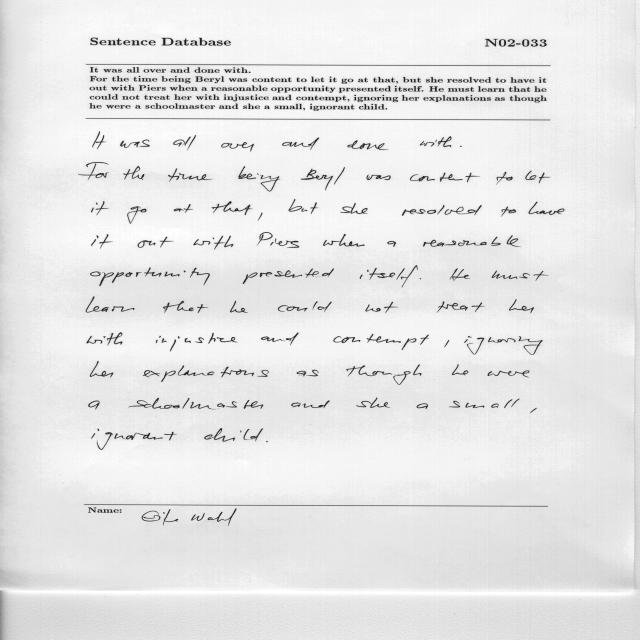word: (91, 268, 210, 287), (143, 366, 269, 382), (92, 429, 177, 450), (346, 364, 422, 385), (156, 333, 238, 352), (333, 334, 429, 350), (464, 336, 543, 355), (129, 398, 264, 409), (243, 268, 334, 284), (360, 266, 418, 288), (423, 235, 520, 247), (239, 166, 281, 192), (301, 167, 345, 191), (402, 205, 482, 216), (86, 297, 134, 313), (204, 429, 263, 442), (410, 173, 480, 183), (257, 232, 299, 248), (168, 168, 213, 182), (449, 399, 519, 408), (492, 270, 549, 281), (278, 301, 332, 312), (212, 201, 253, 215), (194, 236, 234, 250), (78, 162, 109, 180), (323, 234, 365, 247), (163, 301, 208, 313), (437, 302, 485, 313), (261, 333, 299, 346), (282, 137, 319, 150), (529, 202, 565, 215), (87, 333, 122, 346), (289, 199, 319, 214), (347, 140, 389, 150), (138, 237, 174, 248), (91, 361, 114, 378), (365, 302, 398, 313), (420, 137, 452, 148), (509, 299, 534, 313), (173, 135, 196, 150), (128, 206, 147, 224), (221, 142, 254, 152), (357, 398, 390, 408), (526, 171, 551, 184), (92, 234, 113, 249), (291, 401, 330, 409), (340, 203, 368, 214), (124, 166, 145, 180), (488, 371, 530, 378), (120, 139, 150, 148), (450, 269, 470, 282), (92, 202, 109, 216), (93, 132, 106, 149), (496, 172, 513, 185), (230, 301, 248, 313), (452, 364, 468, 375), (174, 204, 193, 213), (501, 207, 516, 217), (297, 370, 319, 376), (367, 175, 391, 180), (89, 401, 100, 410), (417, 403, 428, 409), (387, 241, 396, 247), (258, 213, 263, 221), (445, 340, 450, 347), (530, 408, 537, 413), (460, 146, 462, 147), (266, 441, 268, 442), (420, 278, 421, 279)
